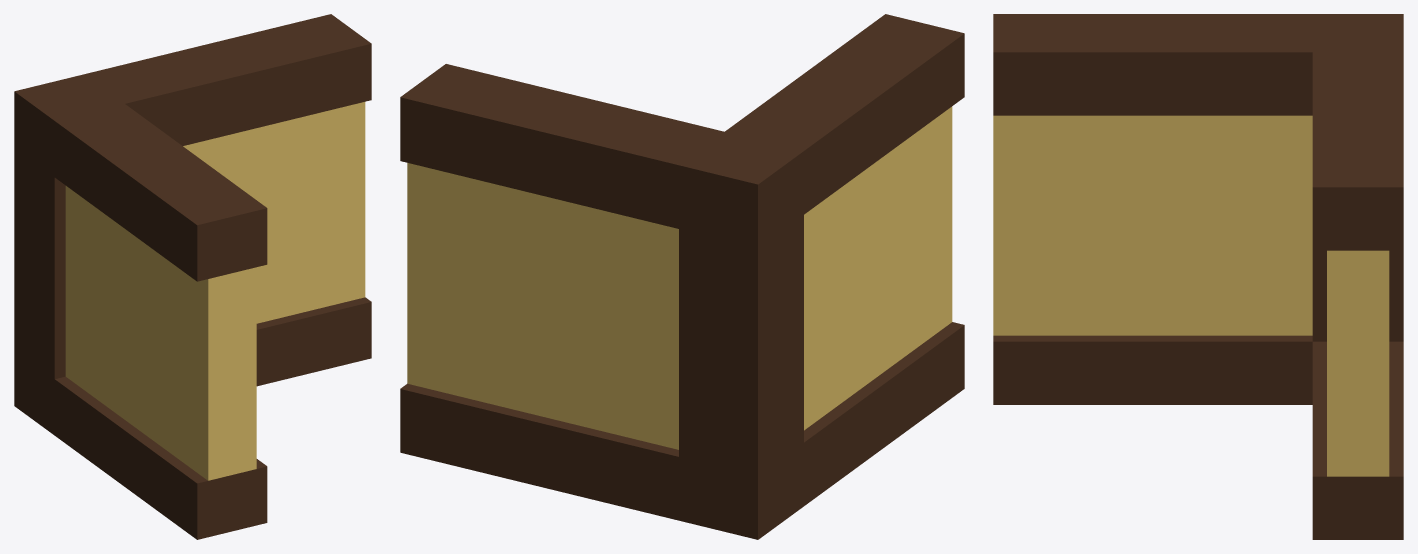
File: Wall_Corner.fbx
3 views of the same model, side by side, from view 1: azimuth 30°, elevation 25°; view 2: azimuth 150°, elevation 25°; view 3: azimuth 270°, elevation 25° (orthographic). The views are drawn at different scales.
Visible parts, largest first — view 1: Wall Corner; view 2: Wall Corner; view 3: Wall Corner.
Part boxes in pixels (left/top/right/bottom): Wall Corner: left=14, top=14, right=371, bottom=539; Wall Corner: left=400, top=14, right=964, bottom=539; Wall Corner: left=993, top=14, right=1403, bottom=539.
Bounding box in the file's own units: 257 × 244 × 257.
